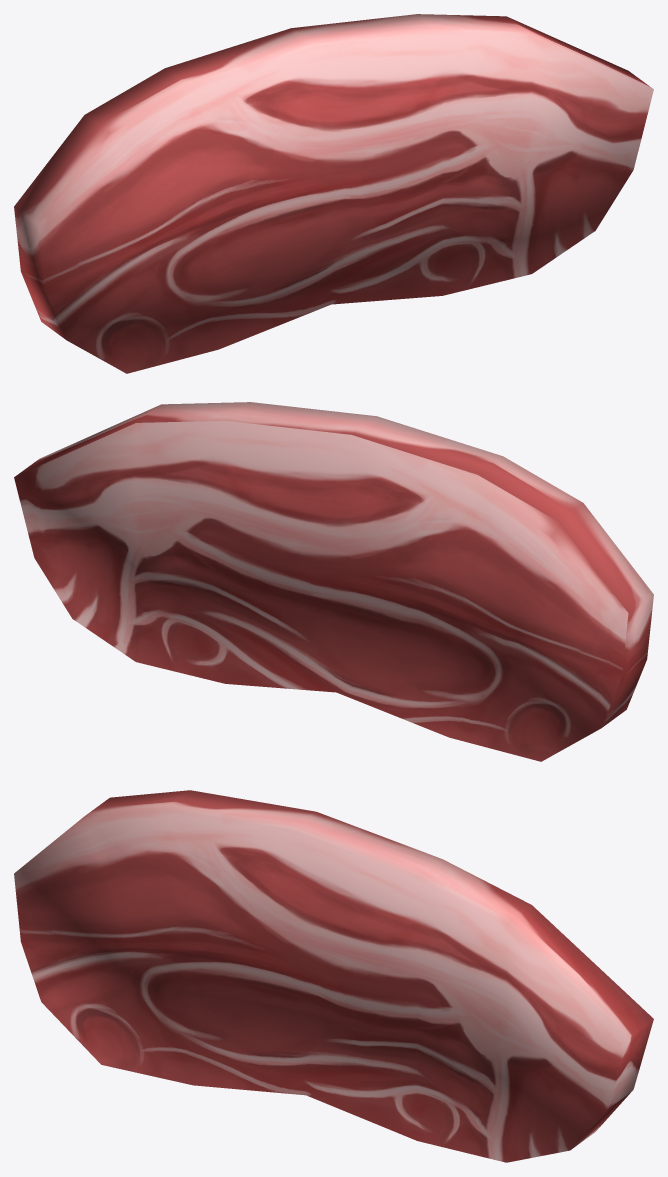
Rendered from aged_samgyupsal.fbx.
The picture shows the model from 3 angles, top to bottom: view 1: azimuth 30°, elevation 25°; view 2: azimuth 150°, elevation 25°; view 3: azimuth 330°, elevation 25°; orthographic projection.
Visible parts, largest first — view 1: aged_samgyupsal; view 2: aged_samgyupsal; view 3: aged_samgyupsal.
Part boxes in pixels (x1,y1,x2,y2): aged_samgyupsal: (14, 14, 653, 373); aged_samgyupsal: (14, 402, 653, 761); aged_samgyupsal: (14, 790, 653, 1162).
Bounding box in the file's own units: 80.36 × 35.09 × 5.77.
